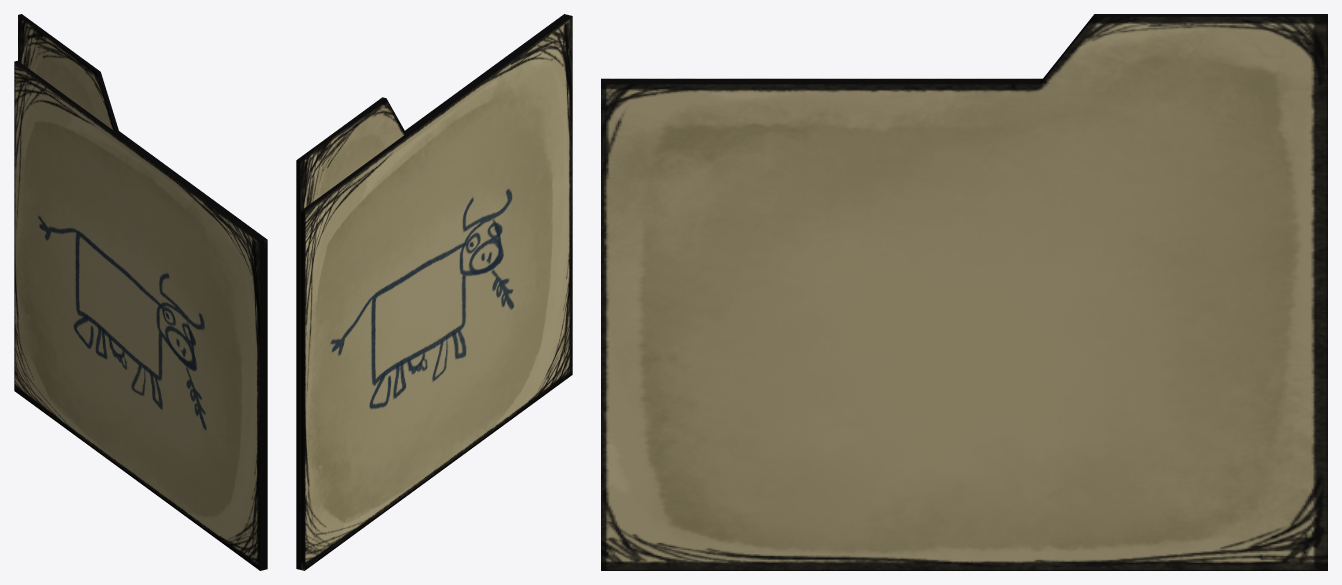
Rendered from folder_cows.fbx.
3 views of the same model, side by side, from view 1: azimuth 30°, elevation 25°; view 2: azimuth 150°, elevation 25°; view 3: azimuth 270°, elevation 25° (orthographic). The views are drawn at different scales.
Parts seen in each view (by area): view 1: folder_front.012, folder_cows; view 2: folder_front.012, folder_cows; view 3: folder_cows, folder_front.012.
Boxes of the visible parts, box(x1,y1,x2,y2) form: folder_front.012: box(14, 60, 263, 570); folder_cows: box(18, 14, 267, 569); folder_front.012: box(300, 15, 572, 570); folder_cows: box(296, 14, 567, 569); folder_cows: box(601, 14, 1327, 570); folder_front.012: box(601, 78, 1042, 81).
Bounding box in the file's own units: 0.0113 × 0.5374 × 0.6385.
Materials: 2 (2 with a texture image).
